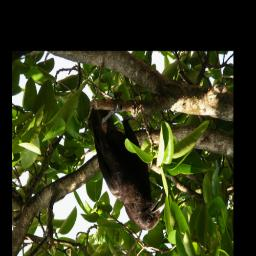Crow: (88, 98, 168, 233)
